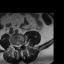CCS_normal: (18, 43, 19, 51)
LFS_normal: (21, 41, 23, 47)
LLS_normal: (19, 42, 21, 48)
RFS_normal: (14, 43, 16, 49)
RLS_normal: (16, 42, 18, 49)
